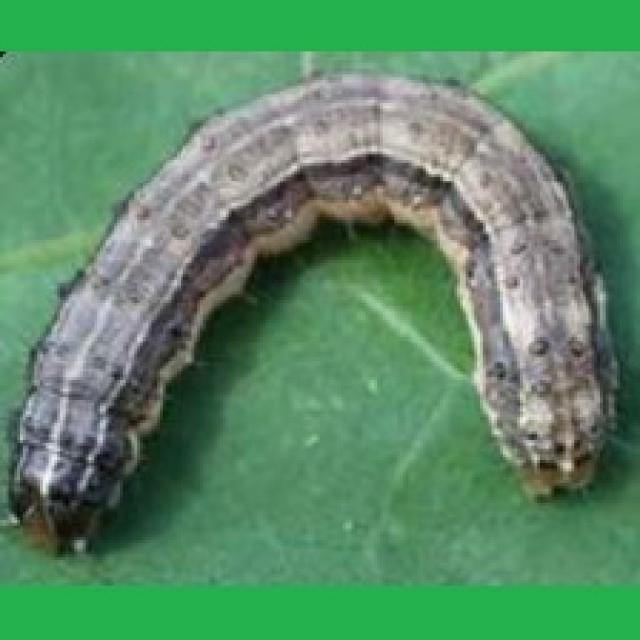Fall-armyworm: (16, 80, 610, 560)
